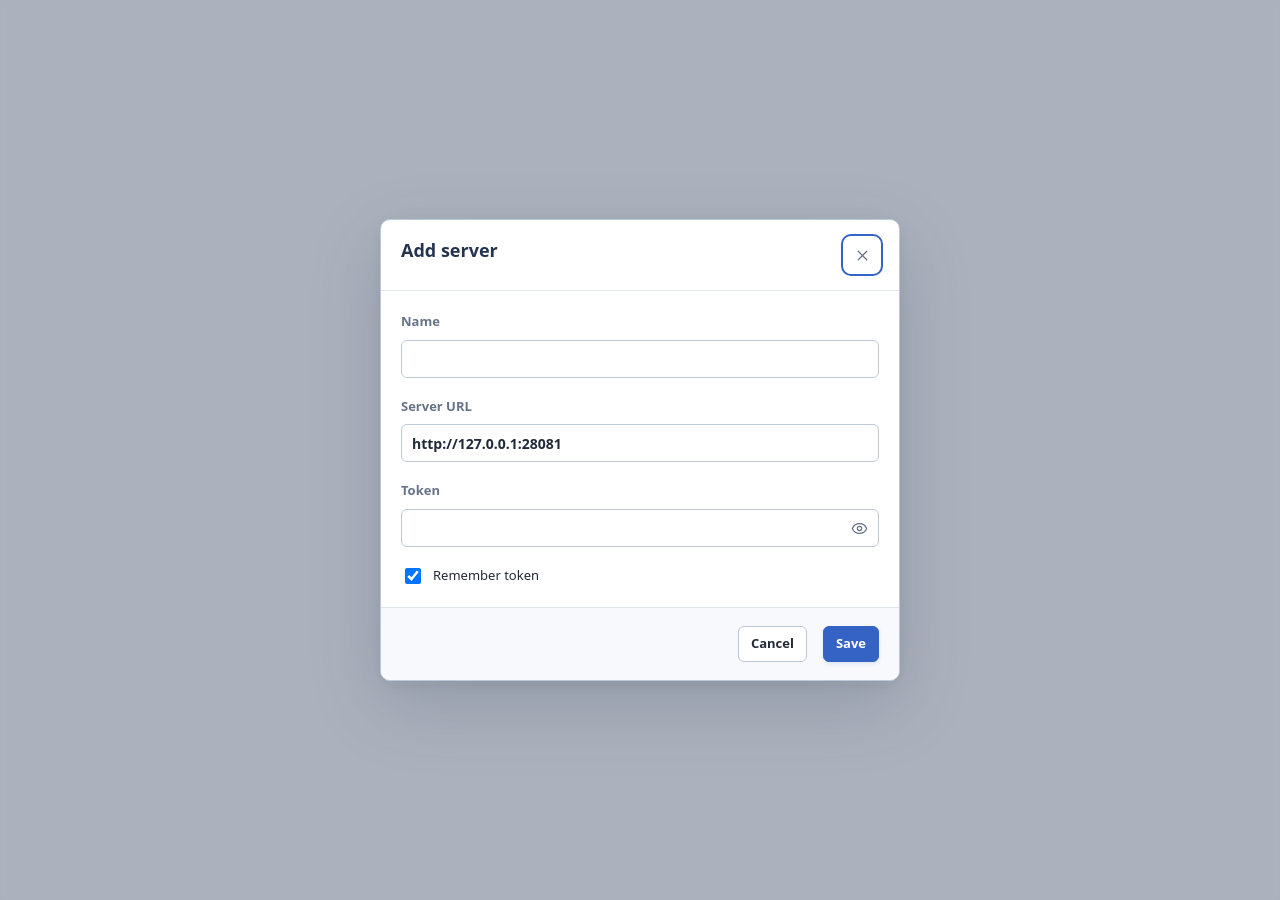
it: localizes token visibility controls in English
Click the button named "Show token" at (859, 529), box 842,512 -> 876,546
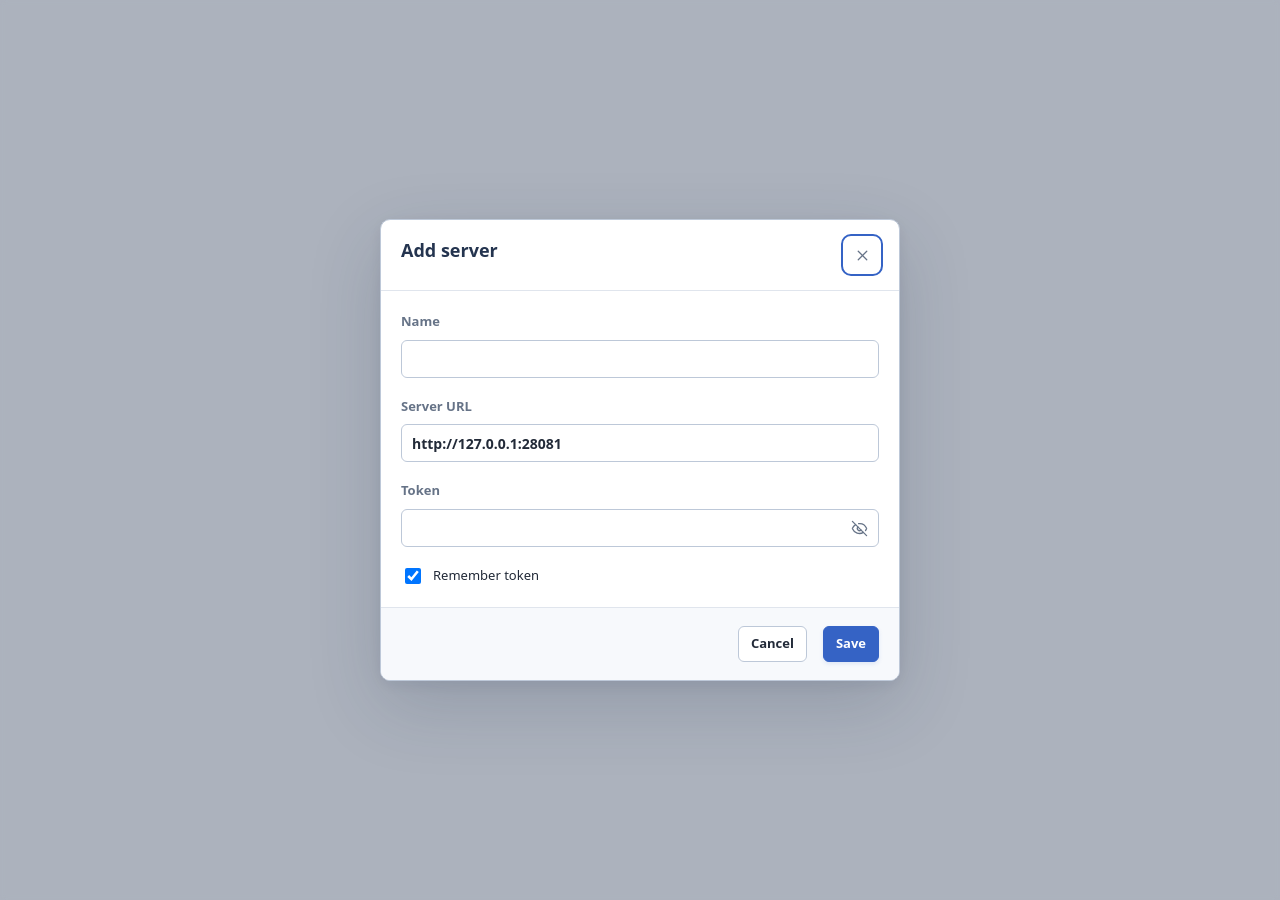
Now the button named "Hide token" is pressed, box 842,512 -> 876,546
